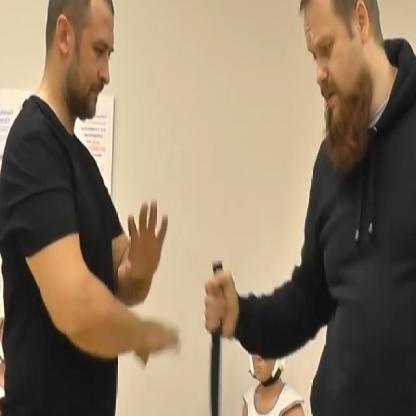knife: (202, 256, 232, 415)
